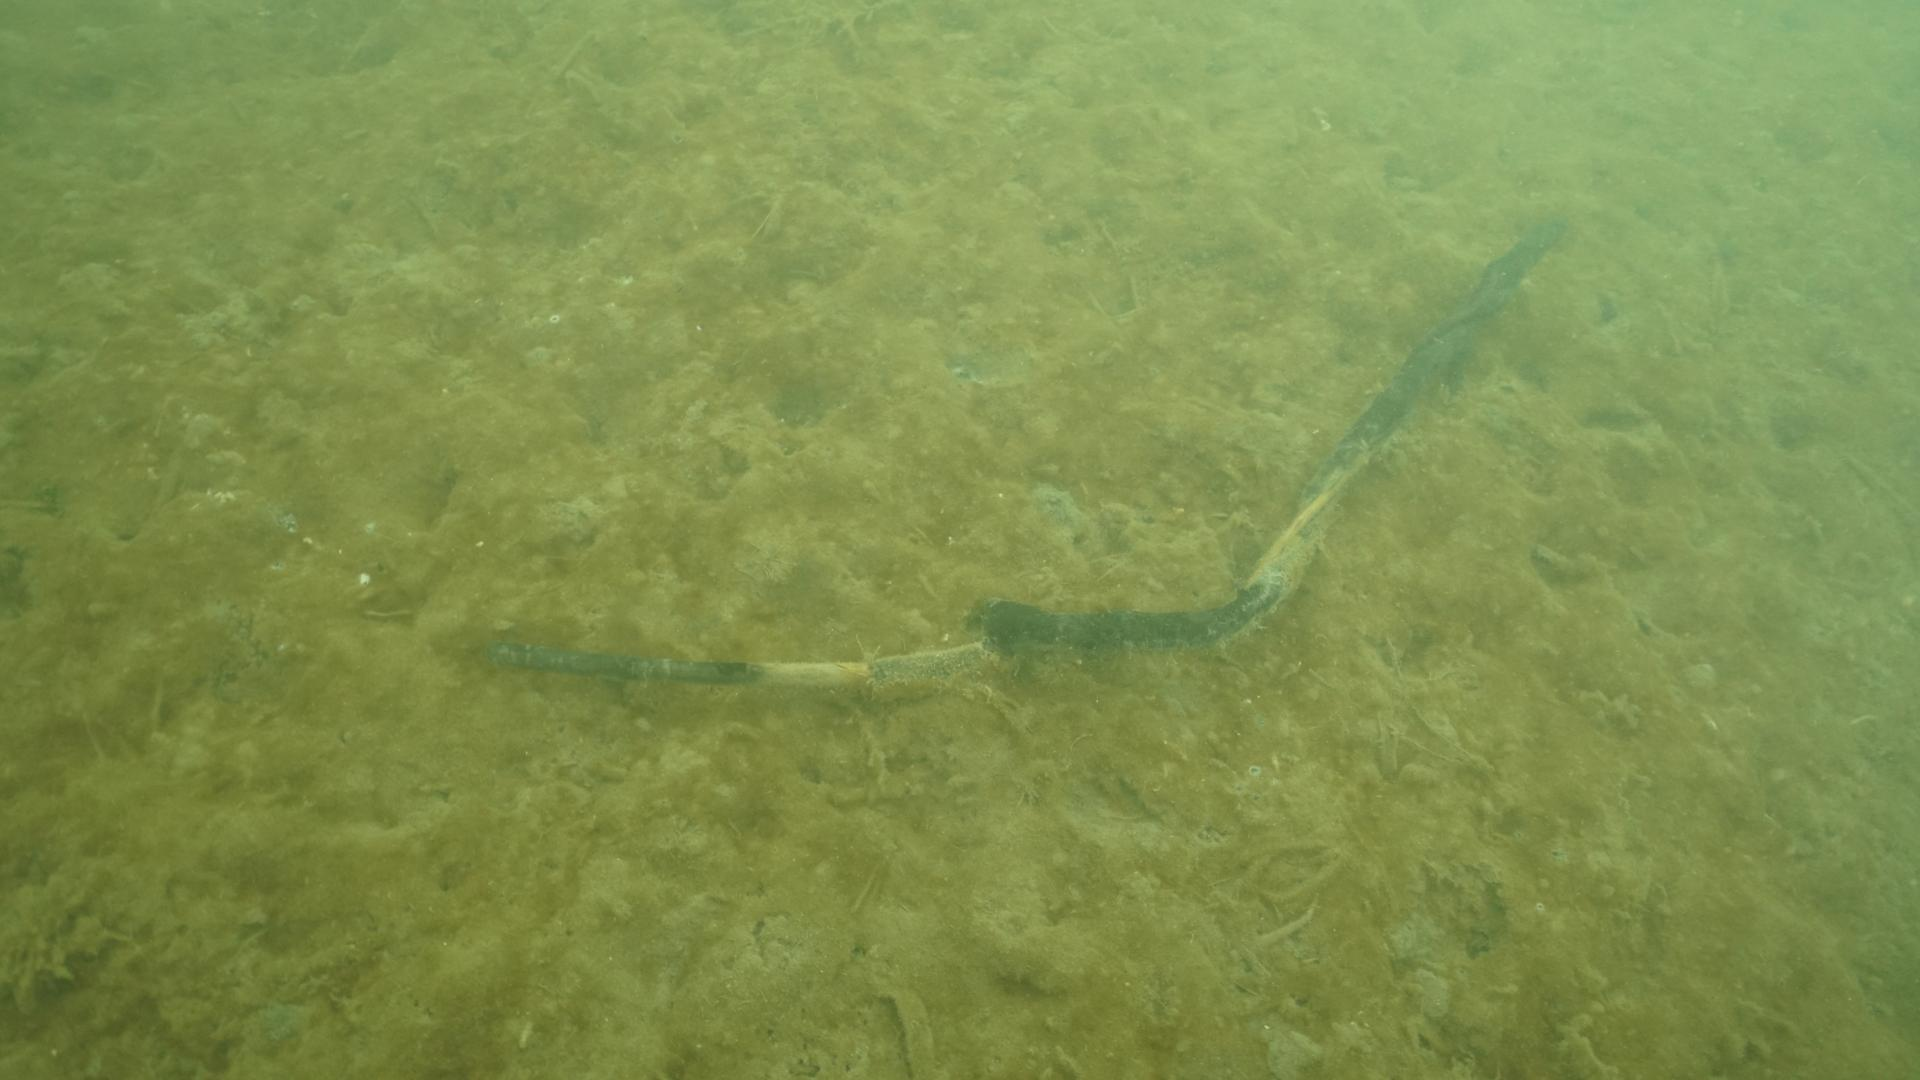wood: (483, 212, 1567, 695)
